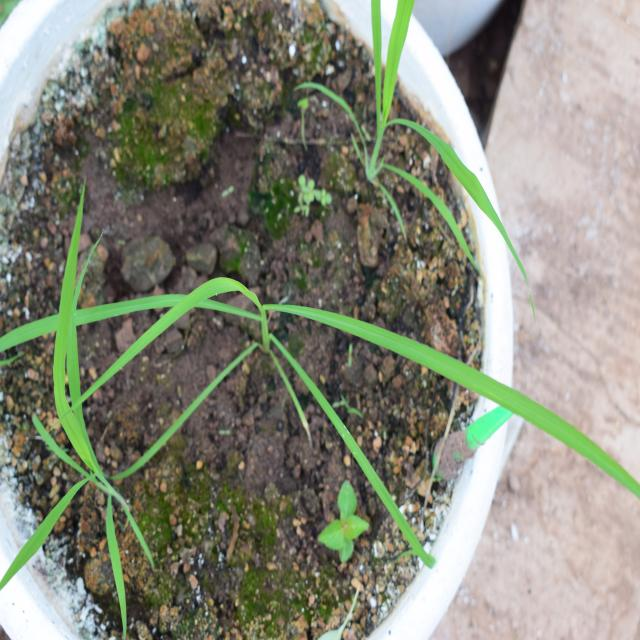barnyard_grass: (12, 225, 592, 521)
